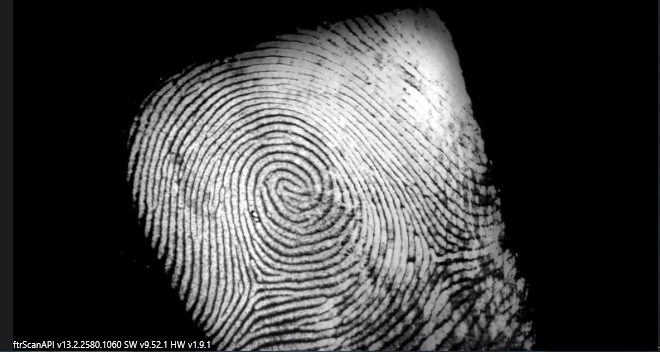nucelo: (273, 180, 301, 198)
verticilo: (241, 275, 271, 301), (421, 247, 446, 267)
